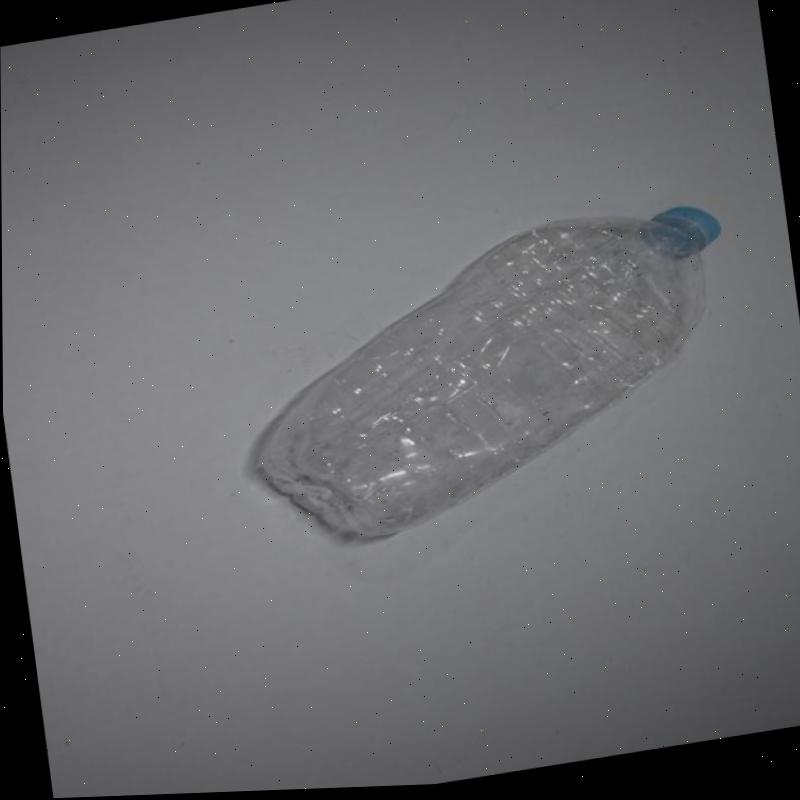botella: (224, 196, 756, 561)
